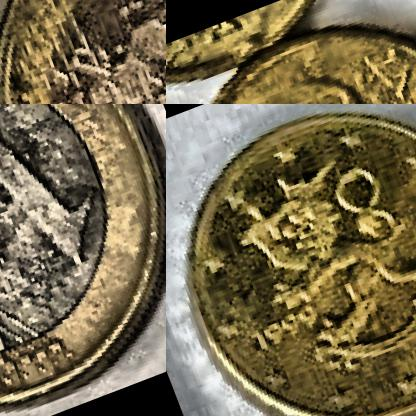coin: (166, 104, 415, 415), (0, 104, 165, 415), (166, 0, 415, 103), (0, 0, 165, 103)
